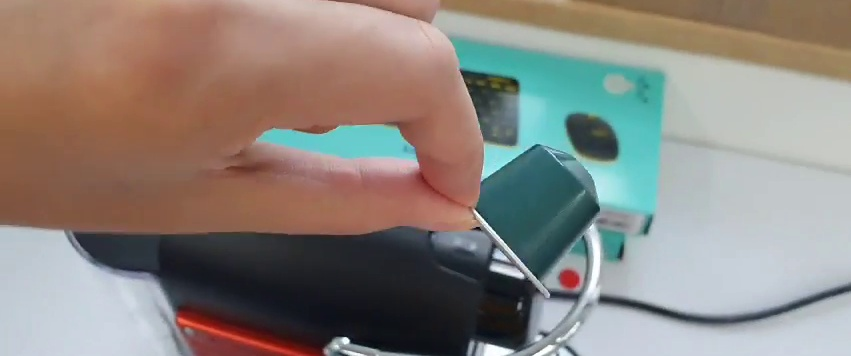capsule_13: (470, 142, 607, 295)
